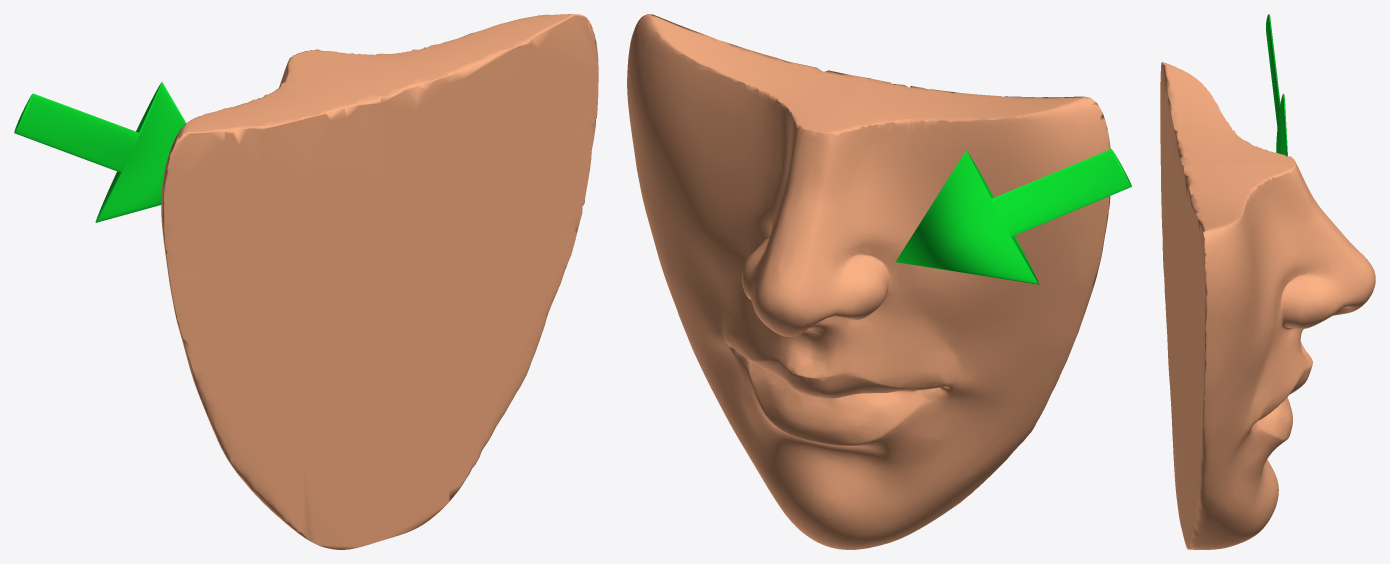
File: nose.fbx
3 views of the same model, side by side, from view 1: azimuth 30°, elevation 25°; view 2: azimuth 150°, elevation 25°; view 3: azimuth 270°, elevation 25° (orthographic). The views are drawn at different scales.
Parts seen in each view (by area): view 1: narizBoca_narizBoca0_0; view 2: narizBoca_narizBoca0_0; view 3: narizBoca_narizBoca0_0.
Part boxes in pixels (x1,y1,x2,y2): narizBoca_narizBoca0_0: [14, 14, 598, 549]; narizBoca_narizBoca0_0: [627, 14, 1131, 549]; narizBoca_narizBoca0_0: [1160, 14, 1375, 549].
Size of the model in its own units: 2084 by 1778 by 857.
